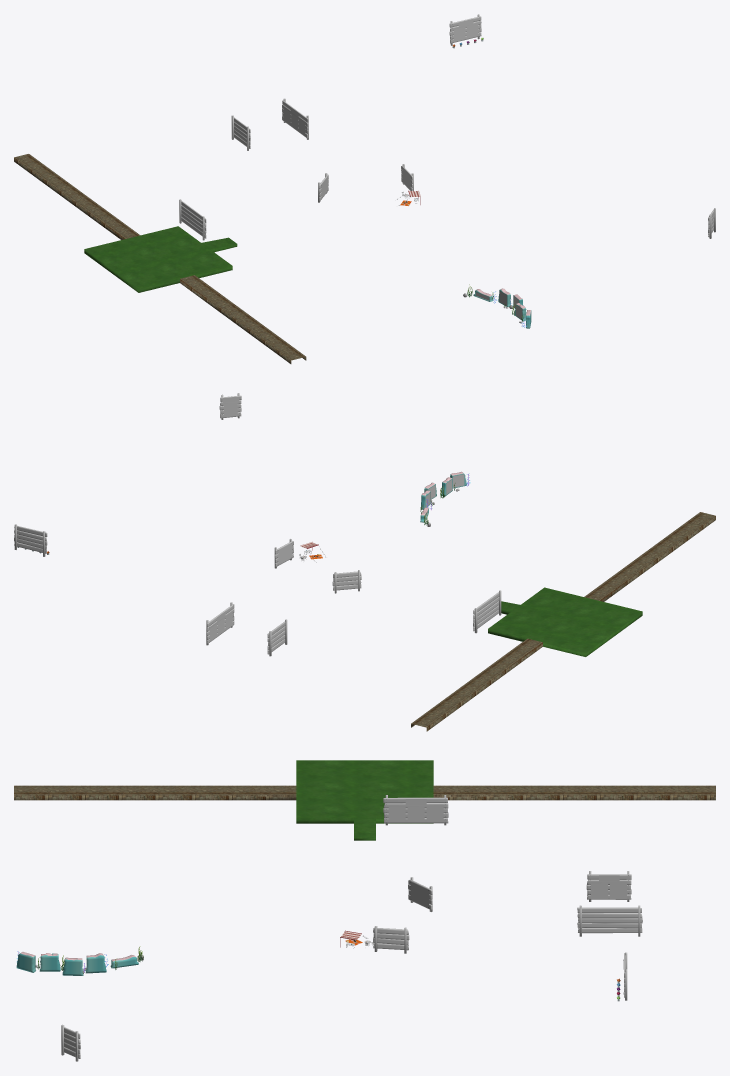
File: dream_1109.fbx
3 views of the same model, one above another, from view 1: azimuth 30°, elevation 25°; view 2: azimuth 150°, elevation 25°; view 3: azimuth 270°, elevation 25° (orthographic). The views are drawn at different scales.
Visible parts, largest first — view 1: garden_bottom, coming_soon_Mesh.010; view 2: garden_bottom, coming_soon_Mesh.009, coming_soon_Mesh.010; view 3: garden_bottom, coming_soon_Mesh.007, coming_soon_Mesh.010, coming_soon_Mesh.011, coming_soon_Mesh.014, coming_soon_Mesh.012.
Boxes of the visible parts, left/top/right/bottom form: garden_bottom: left=14, top=154, right=306, bottom=363; coming_soon_Mesh.010: left=179, top=199, right=206, bottom=240; garden_bottom: left=411, top=512, right=715, bottom=731; coming_soon_Mesh.009: left=14, top=524, right=47, bottom=556; coming_soon_Mesh.010: left=473, top=590, right=501, bottom=633; garden_bottom: left=14, top=760, right=715, bottom=840; coming_soon_Mesh.007: left=577, top=905, right=642, bottom=936; coming_soon_Mesh.010: left=383, top=795, right=448, bottom=825; coming_soon_Mesh.011: left=373, top=926, right=409, bottom=953; coming_soon_Mesh.014: left=586, top=871, right=631, bottom=901; coming_soon_Mesh.012: left=61, top=1024, right=80, bottom=1061.
Bounding box in the file's own units: 8299 × 1488 × 8125.
